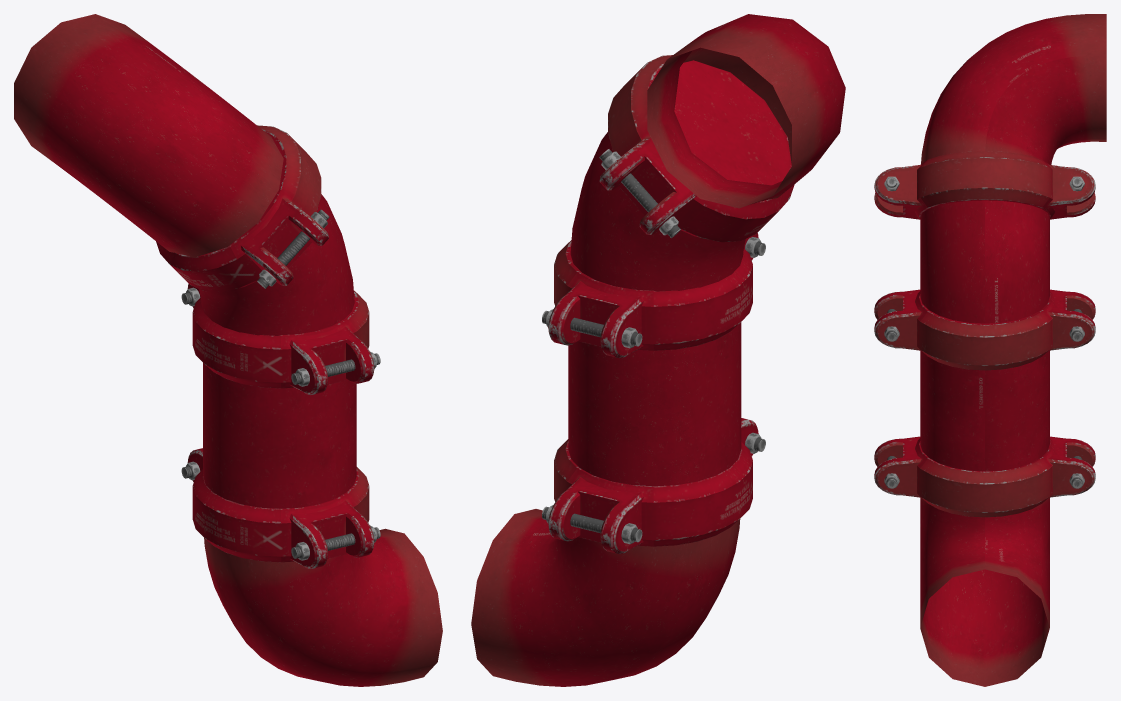
Rendered from SM_Pipe_Module_01e.fbx.
The picture shows the model from 3 angles, left to right: view 1: azimuth 30°, elevation 25°; view 2: azimuth 150°, elevation 25°; view 3: azimuth 270°, elevation 25°; orthographic projection. The views are drawn at different scales.
Visible parts, largest first — view 1: SM_Pipe_Module_01e; view 2: SM_Pipe_Module_01e; view 3: SM_Pipe_Module_01e.
Boxes of the visible parts, x1=… form: SM_Pipe_Module_01e: x1=14, y1=14, x2=442, y2=686; SM_Pipe_Module_01e: x1=471, y1=14, x2=845, y2=686; SM_Pipe_Module_01e: x1=874, y1=14, x2=1106, y2=686.
Size of the model in its own units: 38.35 by 28.65 by 76.35.
Materials: 1 (1 with a texture image).
